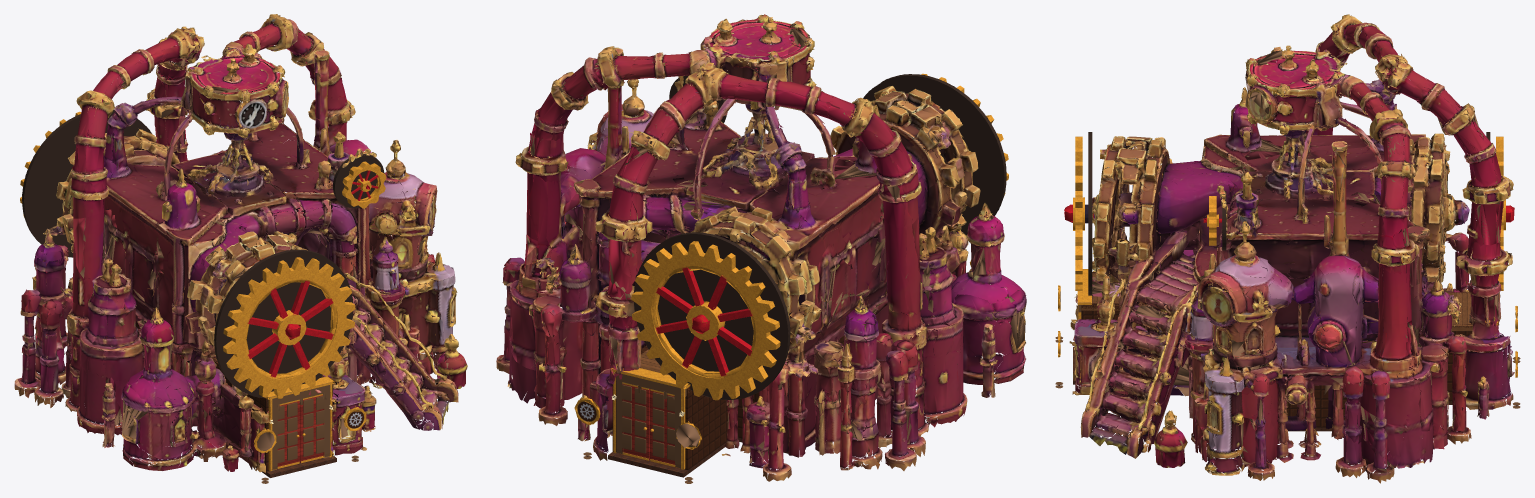
File: CHO_Bld_Gear_Fractured.fbx
3 renders of one model, left to right at view 1: azimuth 30°, elevation 25°; view 2: azimuth 150°, elevation 25°; view 3: azimuth 270°, elevation 25°, orthographic. The views are drawn at different scales.
Visible parts, largest first — view 1: CHO_Bld_Gear_Frag_43, CHO_Bld_Gear_Frag_09, CHO_Bld_Gear_Frag_03, CHO_Bld_Gear_Frag_35, CHO_Bld_Gear_Frag_13, CHO_Bld_Gear_Frag_19, CHO_Bld_Gear_Frag_24, CHO_Bld_Gear_Frag_45, CHO_Bld_Gear_Frag_23, CHO_Bld_Gear_Frag_15, CHO_Bld_Gear_Frag_16, CHO_Bld_Gear_Frag_17 (+26 smaller); view 2: CHO_Bld_Gear_Frag_19, CHO_Bld_Gear_Frag_43, CHO_Bld_Gear_Frag_21, CHO_Bld_Gear_Frag_00, CHO_Bld_Gear_Frag_05, CHO_Bld_Gear_Frag_42, CHO_Bld_Gear_Frag_35, CHO_Bld_Gear_Frag_20, CHO_Bld_Gear_Frag_40, CHO_Bld_Gear_Frag_45, CHO_Bld_Gear_Frag_08, CHO_Bld_Gear_Frag_13 (+25 smaller); view 3: CHO_Bld_Gear_Frag_04, CHO_Bld_Gear_Frag_45, CHO_Bld_Gear_Frag_18, CHO_Bld_Gear_Frag_07, CHO_Bld_Gear_Frag_12, CHO_Bld_Gear_Frag_44, CHO_Bld_Gear_Frag_29, CHO_Bld_Gear_Frag_42, CHO_Bld_Gear_Frag_46, CHO_Bld_Gear_Frag_47, CHO_Bld_Gear_Frag_38, CHO_Bld_Gear_Frag_28 (+26 smaller).
Part boxes in pixels (x1,y1,x2,y2): CHO_Bld_Gear_Frag_43: [71, 194, 192, 361]; CHO_Bld_Gear_Frag_09: [208, 232, 355, 350]; CHO_Bld_Gear_Frag_03: [143, 300, 302, 411]; CHO_Bld_Gear_Frag_35: [80, 335, 176, 470]; CHO_Bld_Gear_Frag_13: [141, 168, 254, 334]; CHO_Bld_Gear_Frag_19: [14, 277, 145, 426]; CHO_Bld_Gear_Frag_24: [333, 215, 428, 342]; CHO_Bld_Gear_Frag_45: [153, 26, 288, 106]; CHO_Bld_Gear_Frag_23: [190, 99, 297, 205]; CHO_Bld_Gear_Frag_15: [292, 163, 403, 263]; CHO_Bld_Gear_Frag_16: [286, 98, 386, 217]; CHO_Bld_Gear_Frag_17: [225, 396, 360, 483]; CHO_Bld_Gear_Frag_19: [820, 315, 961, 470]; CHO_Bld_Gear_Frag_43: [813, 184, 997, 336]; CHO_Bld_Gear_Frag_21: [665, 235, 790, 386]; CHO_Bld_Gear_Frag_00: [755, 220, 878, 385]; CHO_Bld_Gear_Frag_05: [531, 240, 633, 396]; CHO_Bld_Gear_Frag_42: [607, 139, 809, 281]; CHO_Bld_Gear_Frag_35: [943, 235, 1026, 416]; CHO_Bld_Gear_Frag_20: [595, 215, 673, 392]; CHO_Bld_Gear_Frag_40: [655, 272, 766, 449]; CHO_Bld_Gear_Frag_45: [673, 14, 797, 137]; CHO_Bld_Gear_Frag_08: [708, 344, 858, 481]; CHO_Bld_Gear_Frag_13: [834, 105, 1000, 236]; CHO_Bld_Gear_Frag_04: [1336, 317, 1445, 431]; CHO_Bld_Gear_Frag_45: [1247, 45, 1443, 144]; CHO_Bld_Gear_Frag_18: [1286, 195, 1378, 336]; CHO_Bld_Gear_Frag_07: [1058, 280, 1194, 394]; CHO_Bld_Gear_Frag_12: [1203, 325, 1306, 427]; CHO_Bld_Gear_Frag_44: [1076, 159, 1198, 287]; CHO_Bld_Gear_Frag_29: [1237, 303, 1372, 454]; CHO_Bld_Gear_Frag_42: [1344, 107, 1511, 223]; CHO_Bld_Gear_Frag_46: [1154, 392, 1289, 480]; CHO_Bld_Gear_Frag_47: [1197, 221, 1295, 334]; CHO_Bld_Gear_Frag_38: [1058, 232, 1195, 349]; CHO_Bld_Gear_Frag_28: [1072, 364, 1162, 458].
Size of the model in its own units: 3200 by 2727 by 3370.
